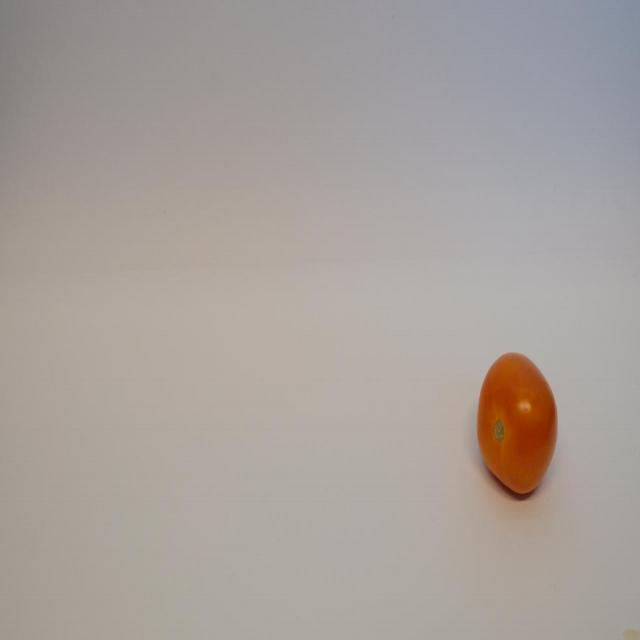tomato: (479, 340, 560, 505)
